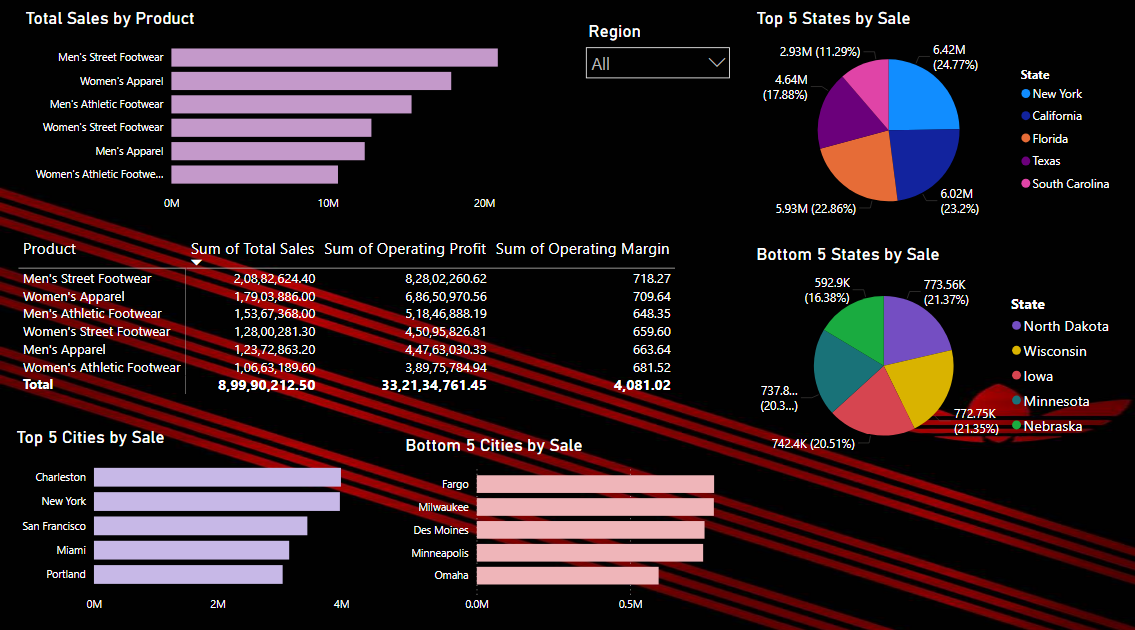

This screenshot's page, from the dashboard's own definition file:
{"tool":"powerbi","page":{"name":"Regional Sales","canvas":[1280,720],"ordinal":4},"visuals":[{"type":"slicer","fields":{"Values":["Data Sales Adidas.Region"]},"box":[650.3,27,182.5,110.5],"z":0},{"type":"barChart","title":"Total Sales by Product","fields":{"Category":["Data Sales Adidas.Product"],"Y":["Sum(Data Sales Adidas.Total Sales)"]},"box":[24.4,16.7,625.9,237.8],"z":1000},{"type":"pivotTable","fields":{"Rows":["Data Sales Adidas.Product"],"Values":["Sum(Data Sales Adidas.Total Sales)","Sum(Data Sales Adidas.Operating Profit)","Sum(Data Sales Adidas.Operating Margin)"]},"box":[16.7,269.9,762.1,188.9],"z":2000},{"type":"barChart","title":"Top 5 Cities by Sale ","fields":{"Category":["Data Sales Adidas.City"],"Y":["Sum(Data Sales Adidas.Total Sales)"]},"box":[14.1,488.4,384.3,217.2],"z":3000},{"type":"barChart","title":"Bottom 5 Cities by Sale","fields":{"Category":["Data Sales Adidas.City"],"Y":["Sum(Data Sales Adidas.Total Sales)"]},"box":[452.4,497.3,380.4,208.2],"z":4000},{"type":"pieChart","title":"Top 5 States by Sale","fields":{"Category":["Data Sales Adidas.State"],"Y":["Sum(Data Sales Adidas.Total Sales)"]},"box":[846.9,16.7,416.4,253.2],"z":5000},{"type":"pieChart","title":"Bottom 5 States by Sale","fields":{"Category":["Data Sales Adidas.State"],"Y":["Sum(Data Sales Adidas.Total Sales)"]},"box":[846.9,282.7,416.4,251.9],"z":6000}]}

Visuals, with their boxes in screenshot pixels (x1, y1, x2, y2), scaled from the page's 1280x720 canvas onto the 1135x630 screenshot:
slicer - Data Sales Adidas.Region: (left=577, top=24, right=738, bottom=120)
"Total Sales by Product" barChart: (left=22, top=15, right=577, bottom=223)
pivotTable - Data Sales Adidas.Product x Sum(Data Sales Adidas.Total Sales): (left=15, top=236, right=691, bottom=401)
"Top 5 Cities by Sale " barChart: (left=13, top=427, right=353, bottom=617)
"Bottom 5 Cities by Sale" barChart: (left=401, top=435, right=738, bottom=617)
"Top 5 States by Sale" pieChart: (left=751, top=15, right=1120, bottom=236)
"Bottom 5 States by Sale" pieChart: (left=751, top=247, right=1120, bottom=468)
